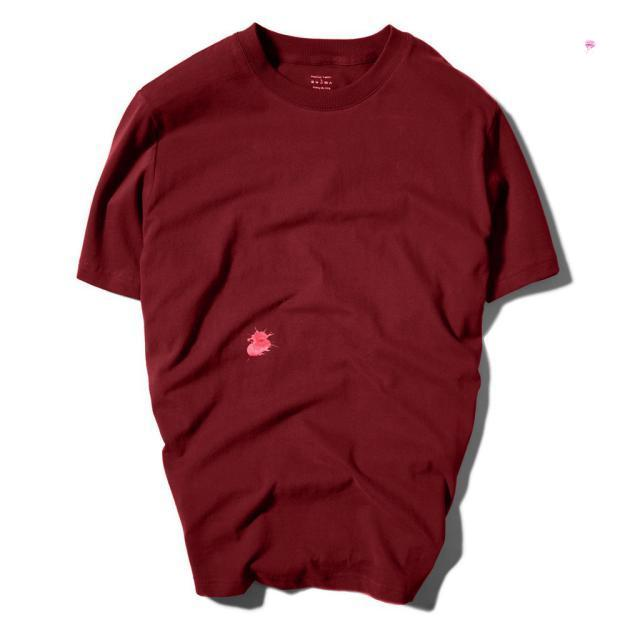stain: (240, 323, 281, 368)
